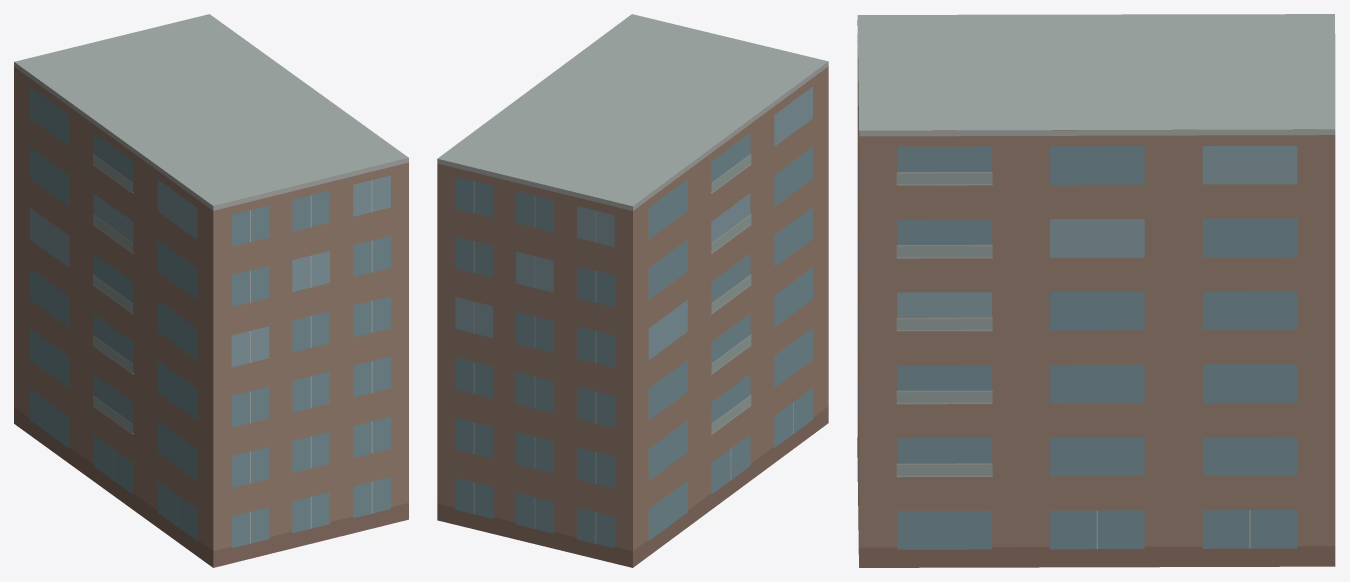
File: survey-upis-32700569.glb
3 views of the same model, side by side, from view 1: azimuth 30°, elevation 25°; view 2: azimuth 150°, elevation 25°; view 3: azimuth 270°, elevation 25° (orthographic). The views are drawn at different scales.
Visible parts, largest first — view 1: survey-upis-32700569.tmp; view 2: survey-upis-32700569.tmp; view 3: survey-upis-32700569.tmp.
Part boxes in pixels (box(x1,y1,x2,y2)): survey-upis-32700569.tmp: box(14, 14, 408, 567); survey-upis-32700569.tmp: box(437, 14, 828, 567); survey-upis-32700569.tmp: box(857, 14, 1335, 567).
Size of the model in its own units: 10.62 by 18.5 by 18.34.
